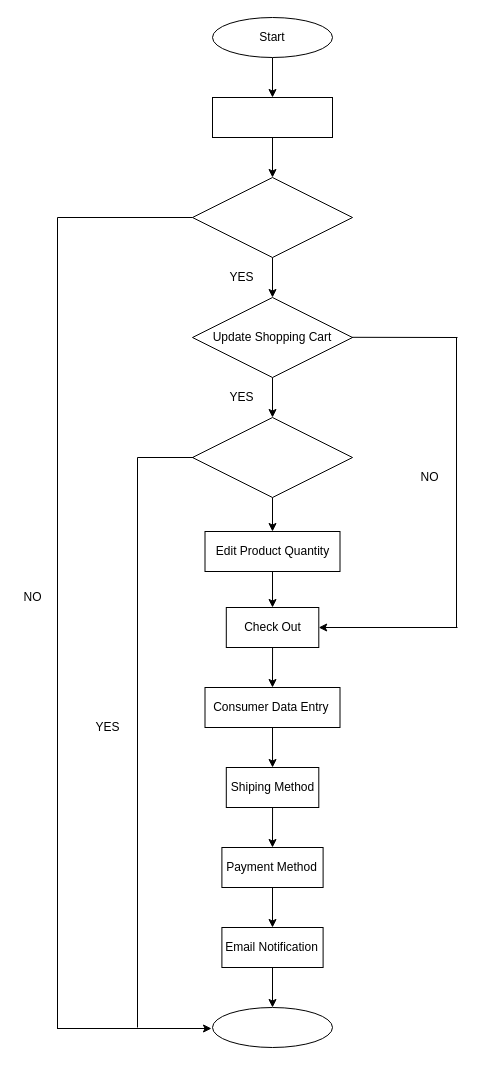
Some shapes in this 483 by 1065 pixel diagram are drawn without their labels. The shapes that lost their labels are listed below. From the top down, each one's box as (x1, y1, x2, y2) in pixels, then its label:
(212, 96, 332, 138): Choose Product
(192, 176, 352, 258): Enter Shopping Cart
(192, 416, 352, 498): Cancel Product
(212, 1006, 332, 1048): End
